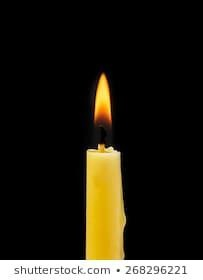fire: (92, 70, 112, 142)
